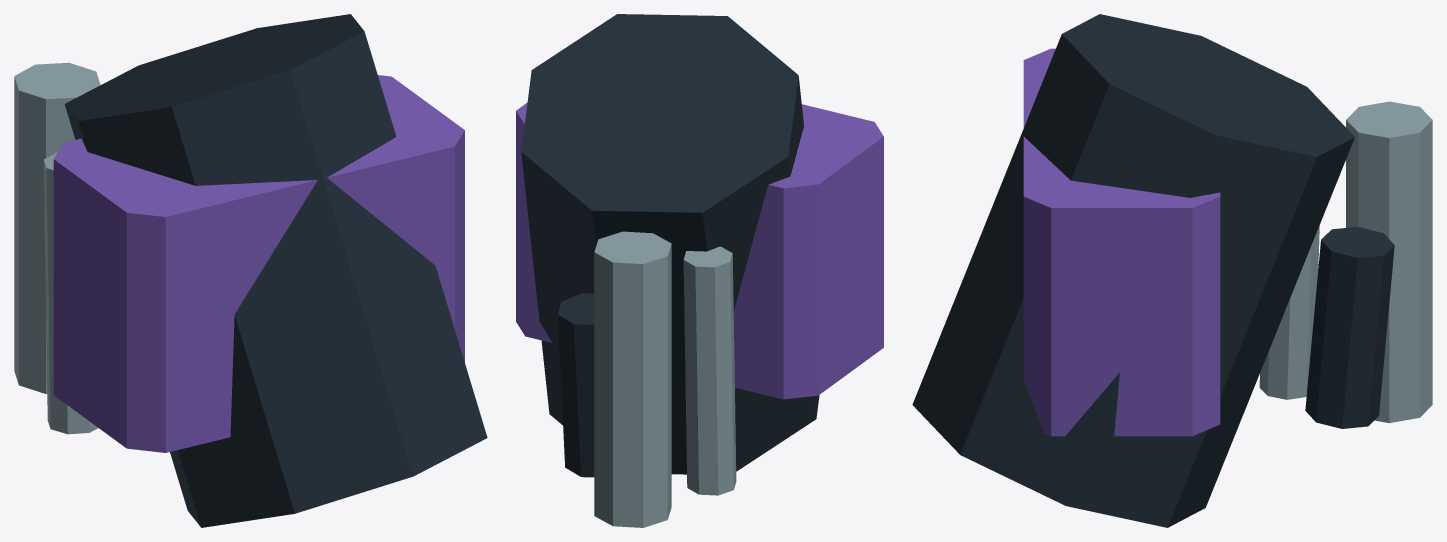
Rendered from enemy_tank_thigh_r.obj.
3 renders of one model, left to right at view 1: azimuth 30°, elevation 25°; view 2: azimuth 150°, elevation 25°; view 3: azimuth 270°, elevation 25°, orthographic. The views are drawn at different scales.
Size of the model in its own units: 0.5035 by 0.6346 by 0.6615.
